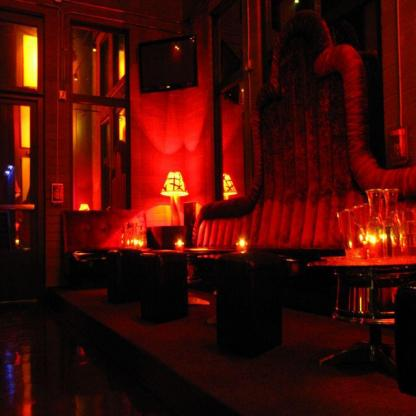other: (14, 30, 45, 135), (340, 212, 406, 254), (154, 165, 187, 206), (225, 228, 251, 250), (217, 171, 235, 198), (121, 233, 145, 246), (167, 234, 187, 249), (78, 197, 90, 216)
